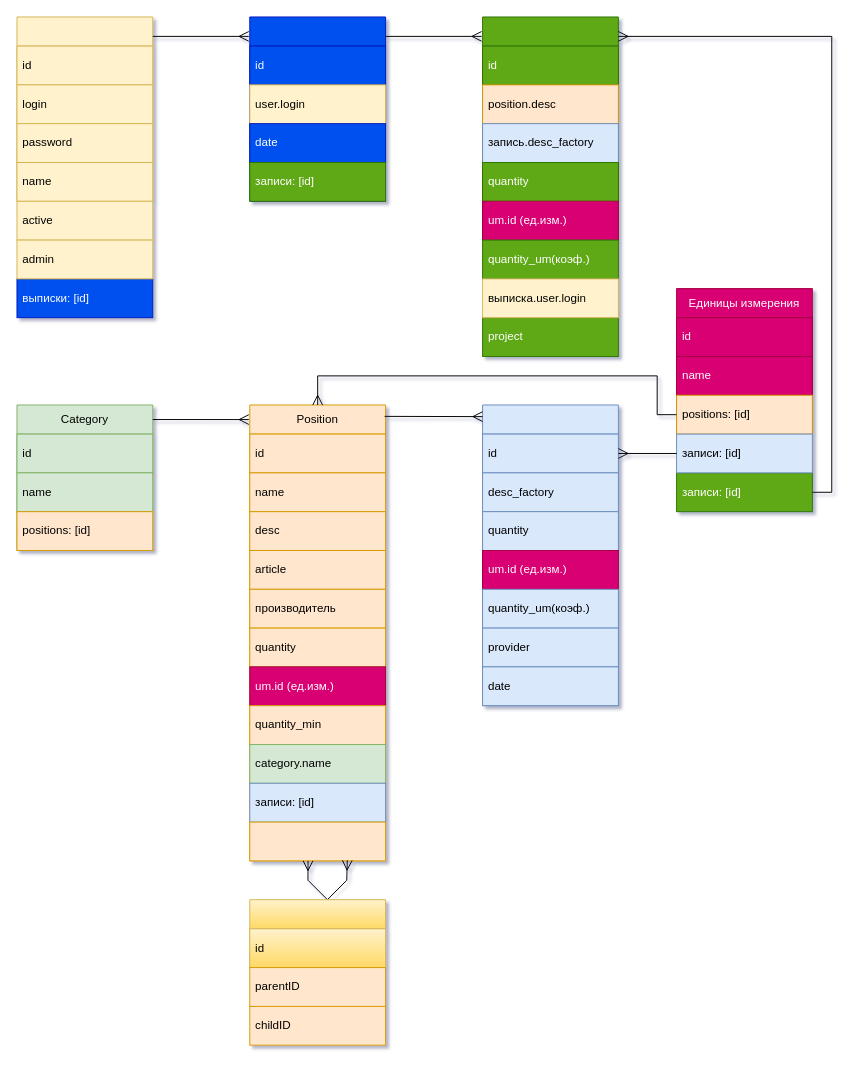
Some shapes in this 864 by 1068 pixel diagram are drawn without their labels. The box of each missing label's shape, as (x1, y1, x2, y2) in pixels:
belong: [position.id]: (249, 821, 386, 861)
Position Hierarchy: (249, 899, 386, 968)
User: (16, 16, 153, 201)
Выписка: (249, 16, 386, 201)
Запись: (482, 404, 618, 706)
Запись_Выписки: (482, 16, 618, 240)
